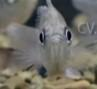Tilapia: (7, 0, 97, 80)
